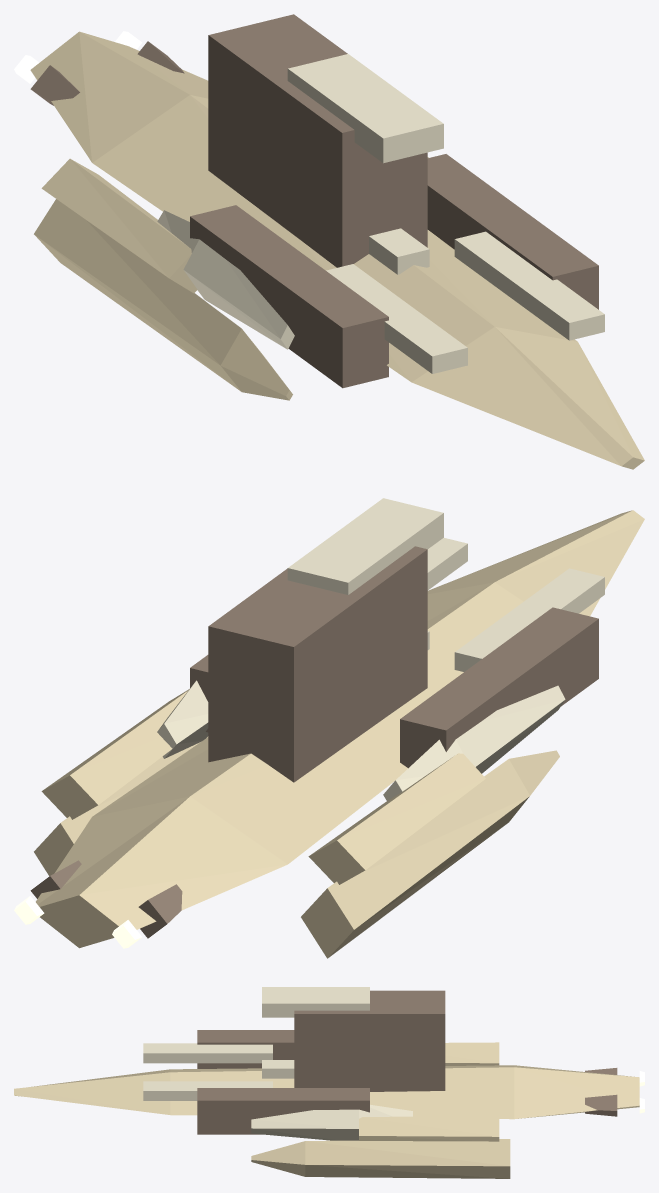
The picture shows the model from 3 angles, top to bottom: view 1: azimuth 30°, elevation 25°; view 2: azimuth 150°, elevation 25°; view 3: azimuth 270°, elevation 25°; orthographic projection. The views are drawn at different scales.
Bounding box in the file's own units: 3.6 × 2.76 × 10.76.
